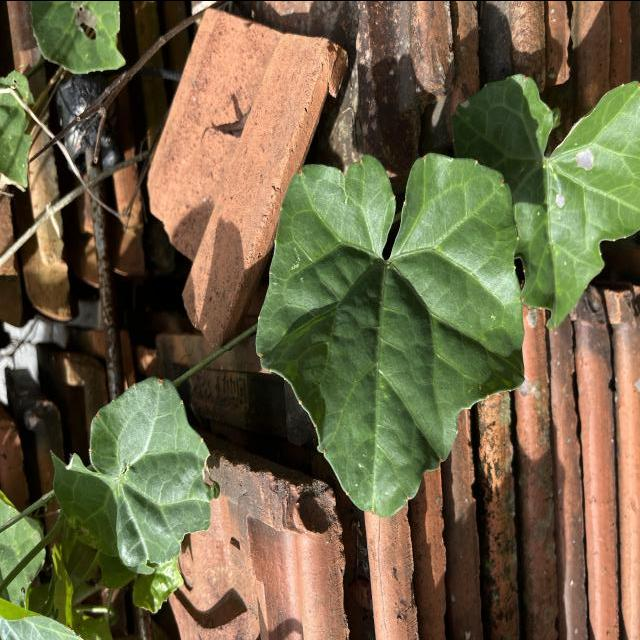Coccinia grandis: (253, 147, 526, 518)
